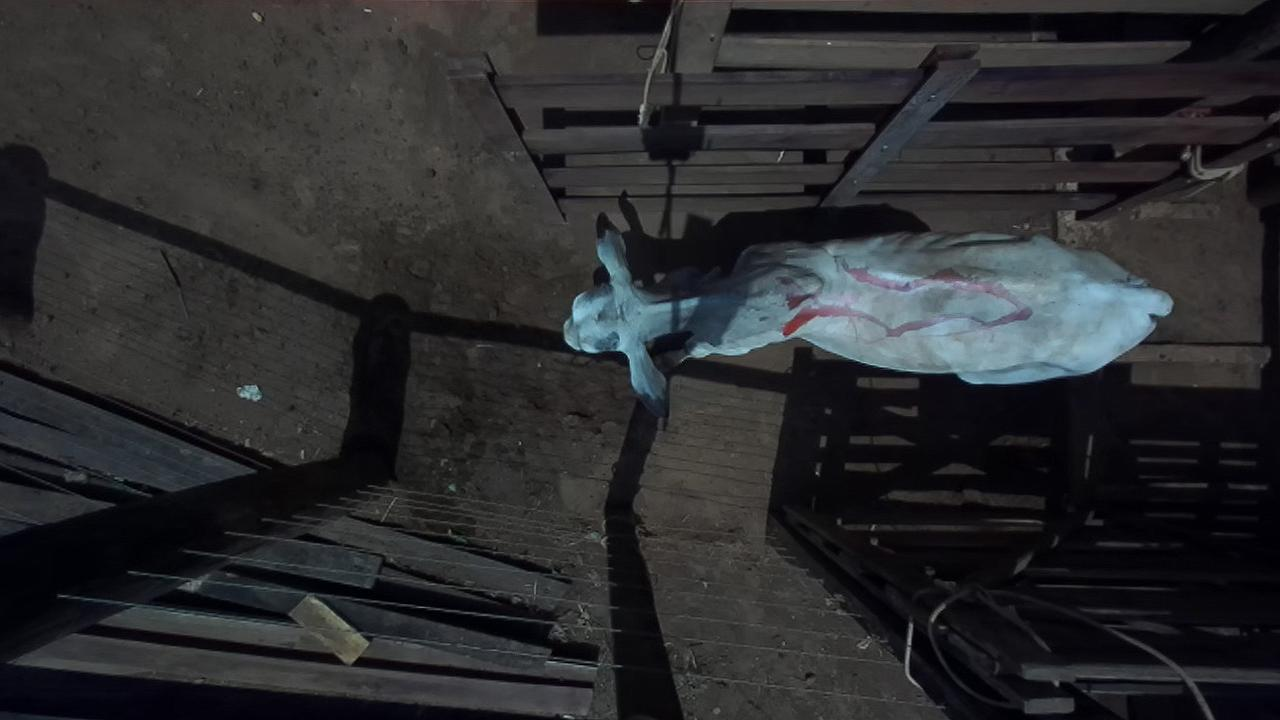cattle: (561, 206, 1174, 417)
